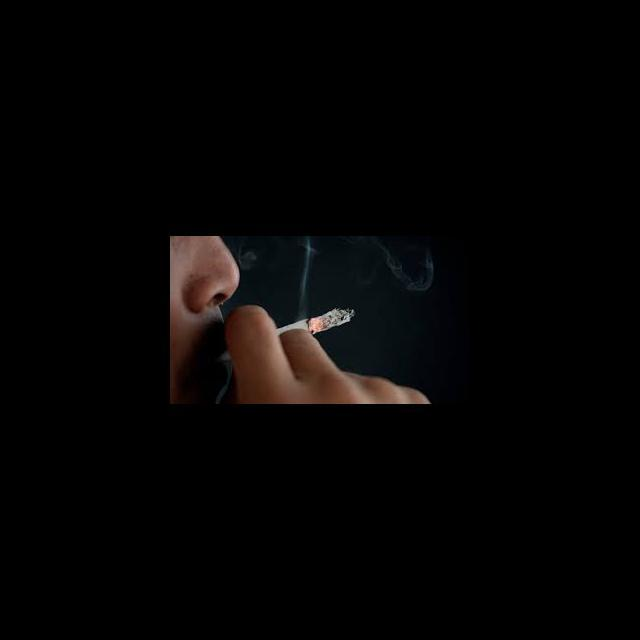Smoke: (346, 237, 435, 292), (297, 238, 315, 319)
